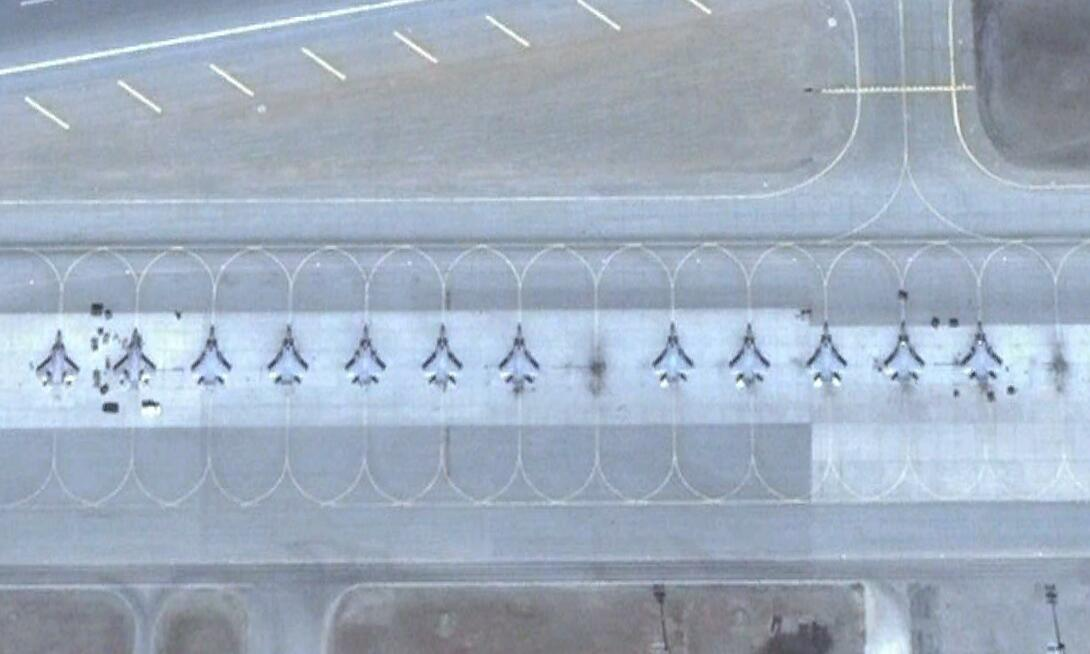A13: (879, 318, 927, 385), (804, 319, 848, 391), (499, 323, 541, 390), (653, 323, 696, 388), (730, 324, 772, 390), (346, 323, 388, 389), (268, 325, 311, 389), (420, 326, 463, 389), (962, 323, 1005, 385), (191, 325, 232, 390)
A15: (115, 327, 159, 391), (38, 332, 80, 392)
